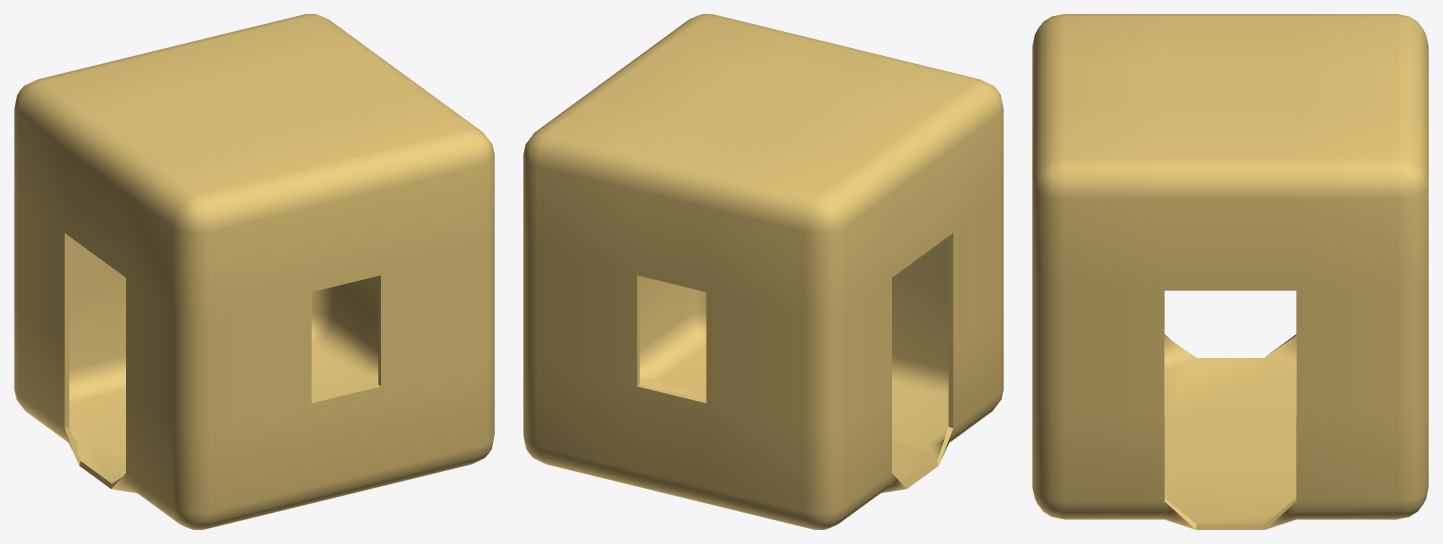
3 views of the same model, side by side, from view 1: azimuth 30°, elevation 25°; view 2: azimuth 150°, elevation 25°; view 3: azimuth 270°, elevation 25° (orthographic). The views are drawn at different scales.
Visible parts, largest first — view 1: Cube; view 2: Cube; view 3: Cube.
Boxes of the visible parts, x1,y1,x2,y2 form: Cube: [14, 14, 494, 529]; Cube: [523, 14, 1003, 529]; Cube: [1032, 14, 1428, 529].
Size of the model in its own units: 2 by 2 by 2.
